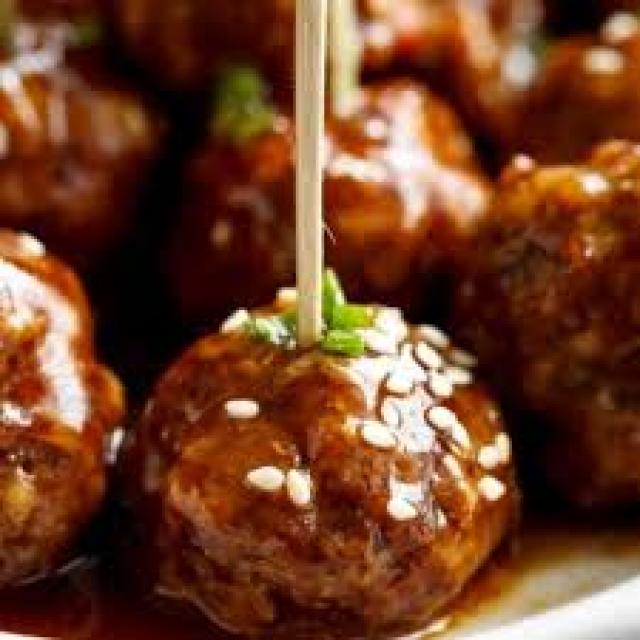meatball: (111, 268, 529, 640)
